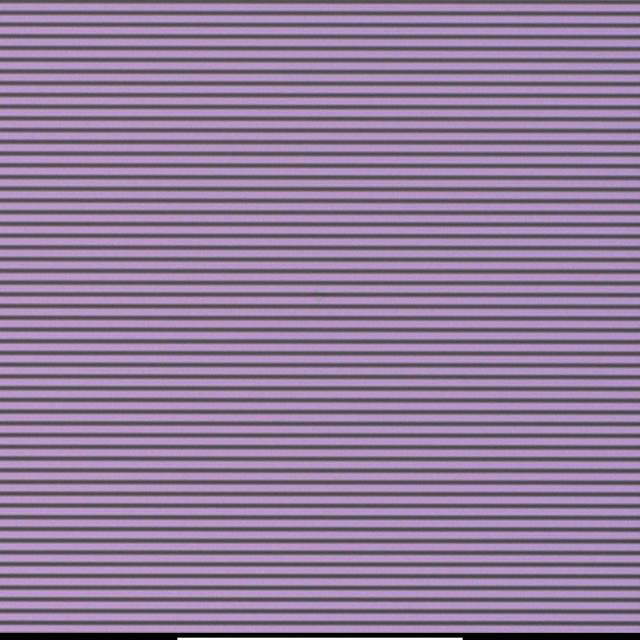nonvisual: (315, 293, 327, 309)
